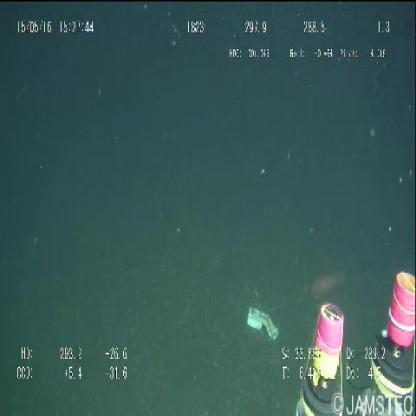Rác: (240, 298, 284, 355)
